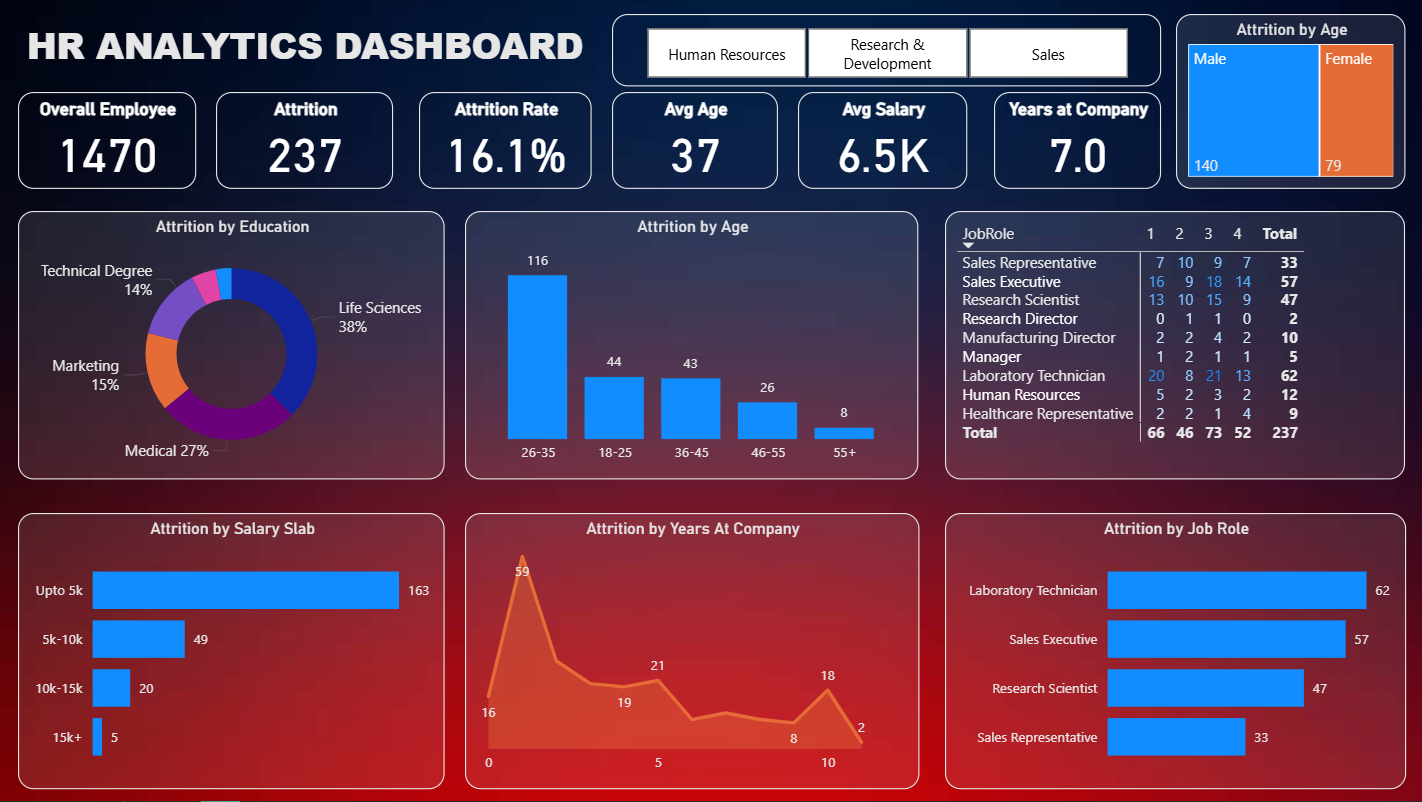

The dashboard page shown, as its layout file describes it:
{"tool":"powerbi","page":{"name":"Page 1","canvas":[1280,720],"ordinal":0},"visuals":[{"type":"card","title":"Overall Employee","fields":{"Values":["CountNonNull(HR_Analytics.EmpID)"]},"box":[18,83.5,159.8,87.1],"z":0},{"type":"card","title":"Attrition","fields":{"Values":["Sum(HR_Analytics.AttritionCout)"]},"box":[196.1,83.3,159.5,87.4],"z":1},{"type":"card","title":"Attrition Rate","fields":{"Values":["HR_Analytics.AttritionRate"]},"box":[377.9,83.3,155.4,87.4],"z":2},{"type":"card","title":"Avg Age","fields":{"Values":["Avg(HR_Analytics.Age)"]},"box":[551.6,83.3,149.3,87.4],"z":3},{"type":"card","title":"Avg Salary","fields":{"Values":["Avg(HR_Analytics.MonthlyIncome)"]},"box":[718.2,83.3,152.4,87.4],"z":4},{"type":"card","title":"Years at Company","fields":{"Values":["Avg(HR_Analytics.YearsAtCompany)"]},"box":[894,83.3,150.3,87.4],"z":5},{"type":"donutChart","title":"Attrition by Education","fields":{"Category":["HR_Analytics.EducationField"],"Y":["Sum(HR_Analytics.AttritionCout)"]},"box":[18,190.3,383.3,240.6],"z":6},{"type":"columnChart","title":"Attrition by Age","fields":{"Category":["HR_Analytics.AgeGroup"],"Y":["Sum(HR_Analytics.AttritionCout)"]},"box":[419.6,190,407.4,240.8],"z":7},{"type":"pivotTable","fields":{"Rows":["HR_Analytics.JobRole"],"Columns":["HR_Analytics.JobSatisfaction"],"Values":["Sum(HR_Analytics.AttritionCout)"]},"box":[850.3,190,413.5,240.8],"z":8},{"type":"barChart","title":"Attrition by Salary Slab","fields":{"Category":["HR_Analytics.SalarySlab"],"Y":["Sum(HR_Analytics.AttritionCout)"]},"box":[18,461.4,383.3,247.8],"z":9},{"type":"barChart","title":"Attrition by Job Role","fields":{"Category":["HR_Analytics.JobRole"],"Y":["Sum(HR_Analytics.AttritionCout)"]},"box":[850.2,461.4,413.9,247.8],"z":10},{"type":"areaChart","title":"Attrition by Years At Company","fields":{"Category":["HR_Analytics.YearsAtCompany"],"Y":["Sum(HR_Analytics.AttritionCout)"]},"box":[419.3,461.4,407.6,247.8],"z":11},{"type":"treemap","title":"Attrition by Age","fields":{"Group":["HR_Analytics.Gender"],"Values":["Sum(HR_Analytics.AttritionCout)"]},"box":[1057.6,13.5,206.5,157.1],"z":12},{"type":"slicer","fields":{"Values":["HR_Analytics.Department"]},"box":[551.2,13.5,492.9,64.6],"z":13},{"type":"textbox","box":[18,13.5,515.3,64.6],"z":14}]}

Visuals, with their boxes in screenshot pixels (x1, y1, x2, y2), scaled from the page's 1280x720 canvas onto the 1422x802 screenshot:
"Overall Employee" card: bbox(20, 93, 198, 190)
"Attrition" card: bbox(218, 93, 395, 190)
"Attrition Rate" card: bbox(420, 93, 592, 190)
"Avg Age" card: bbox(613, 93, 779, 190)
"Avg Salary" card: bbox(798, 93, 967, 190)
"Years at Company" card: bbox(993, 93, 1160, 190)
"Attrition by Education" donutChart: bbox(20, 212, 446, 480)
"Attrition by Age" columnChart: bbox(466, 212, 919, 480)
pivotTable - HR_Analytics.JobRole x HR_Analytics.JobSatisfaction: bbox(945, 212, 1404, 480)
"Attrition by Salary Slab" barChart: bbox(20, 514, 446, 790)
"Attrition by Job Role" barChart: bbox(945, 514, 1404, 790)
"Attrition by Years At Company" areaChart: bbox(466, 514, 919, 790)
"Attrition by Age" treemap: bbox(1175, 15, 1404, 190)
slicer - HR_Analytics.Department: bbox(612, 15, 1160, 87)
textbox: bbox(20, 15, 592, 87)
